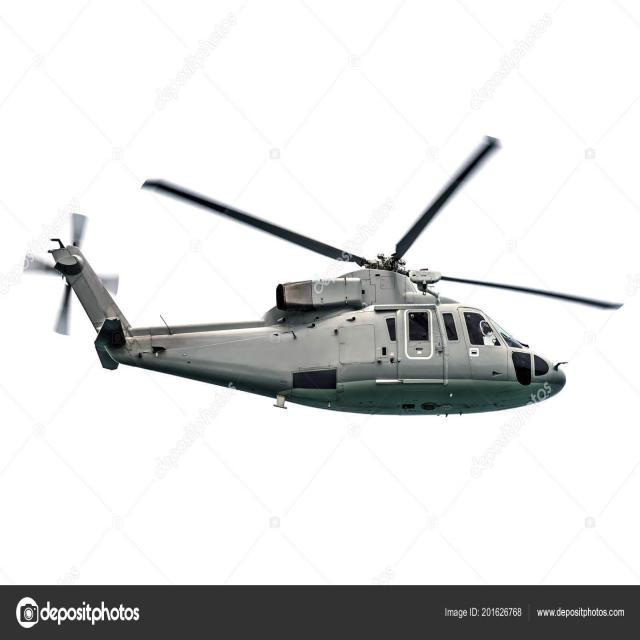helicopter: (41, 136, 625, 417)
